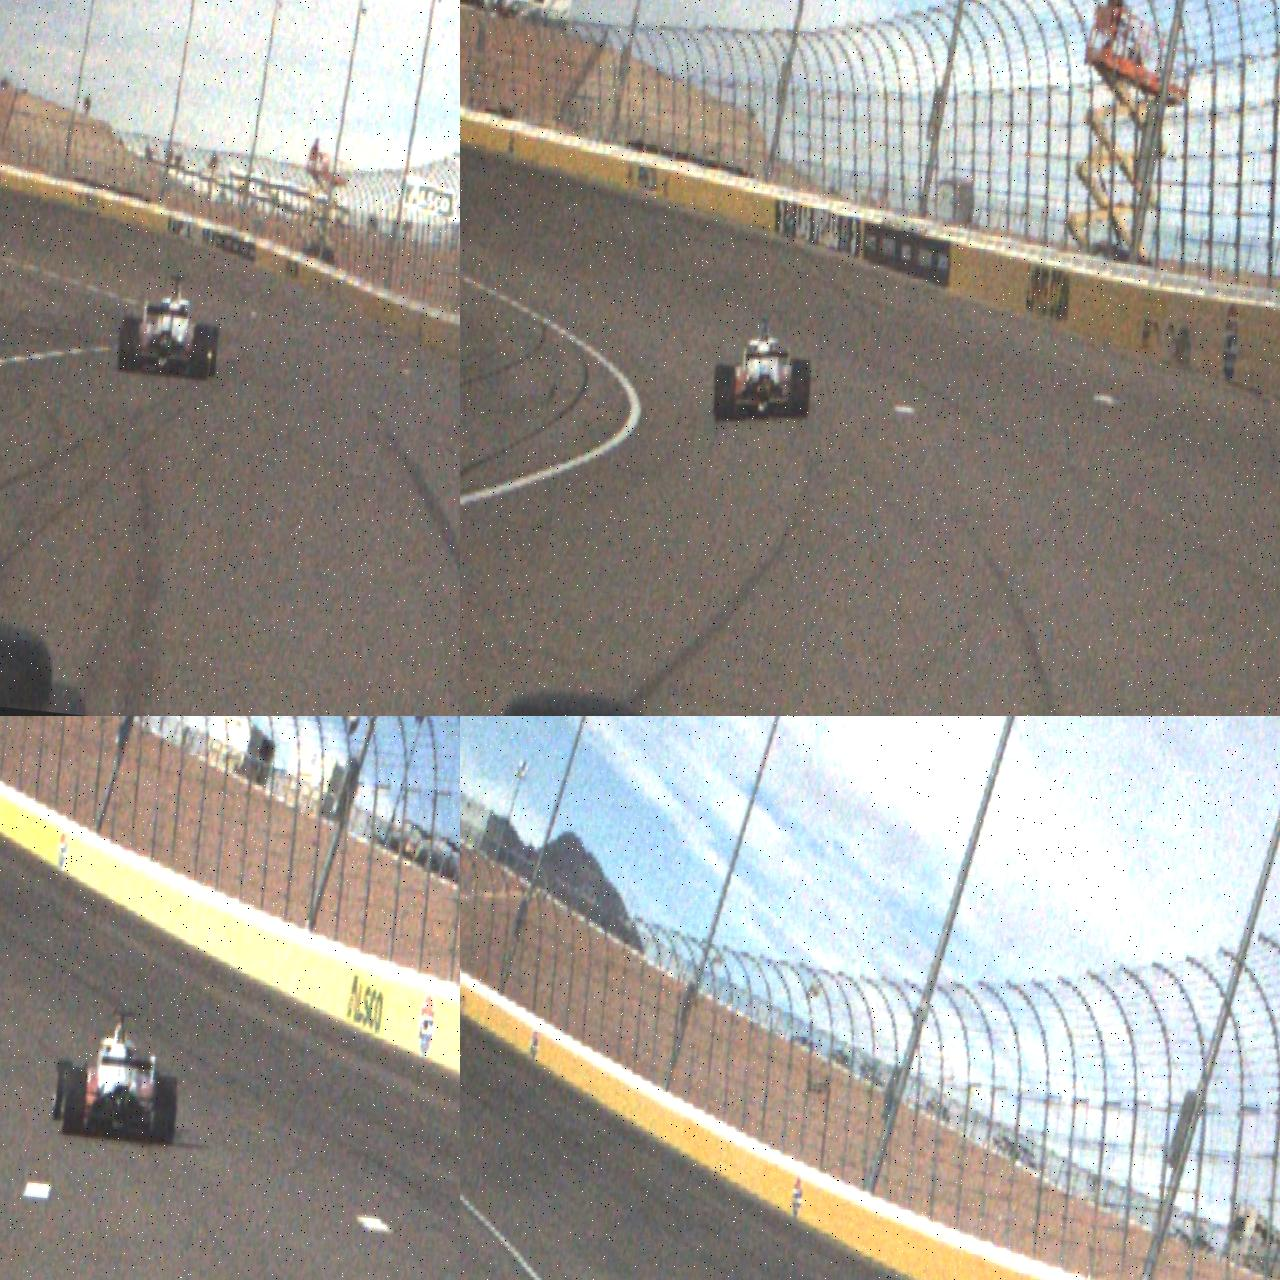AV: (49, 1002, 188, 1149), (710, 308, 818, 433), (115, 268, 226, 382)
Wheel: (149, 1075, 181, 1146), (59, 1065, 88, 1137), (787, 359, 813, 421), (50, 1058, 74, 1122), (116, 314, 141, 374), (714, 366, 738, 423), (190, 325, 213, 381)
